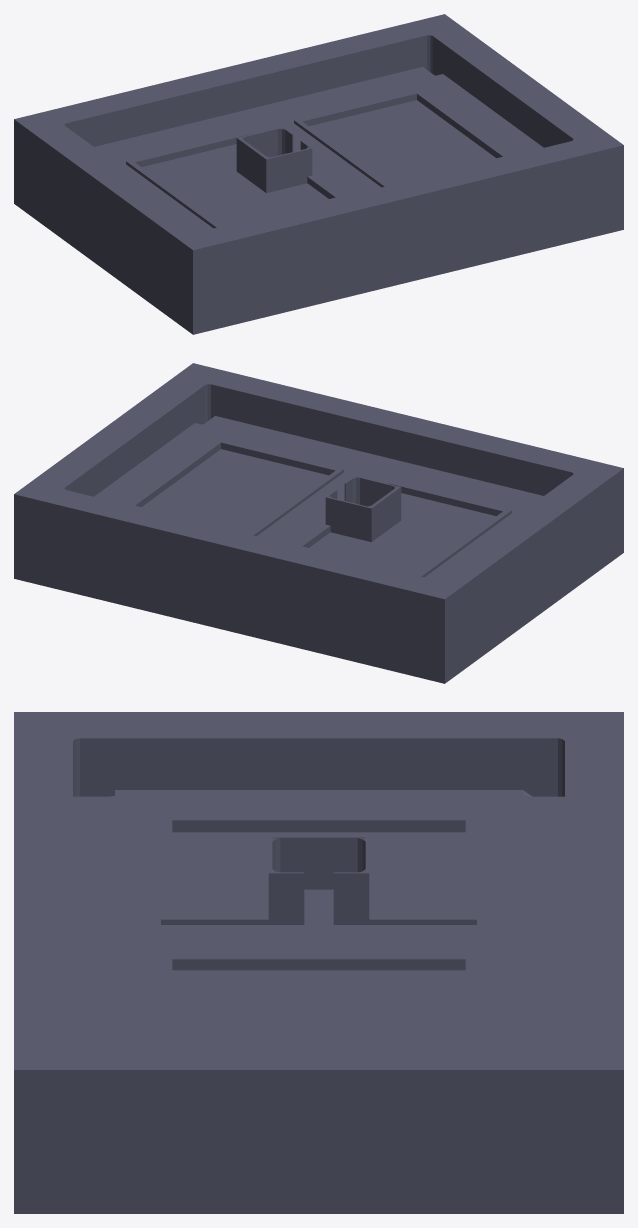
Rendered from ArenaCollision.fbx.
The picture shows the model from 3 angles, top to bottom: view 1: azimuth 30°, elevation 25°; view 2: azimuth 150°, elevation 25°; view 3: azimuth 270°, elevation 25°; orthographic projection. The views are drawn at different scales.
Visible parts, largest first — view 1: bottomFloor.002; view 2: bottomFloor.002; view 3: bottomFloor.002.
Boxes of the visible parts, <box> form: bottomFloor.002: <box>14,14,623,334</box>; bottomFloor.002: <box>14,363,623,683</box>; bottomFloor.002: <box>14,712,623,1213</box>.
Size of the model in its own units: 678 by 127 by 489.
